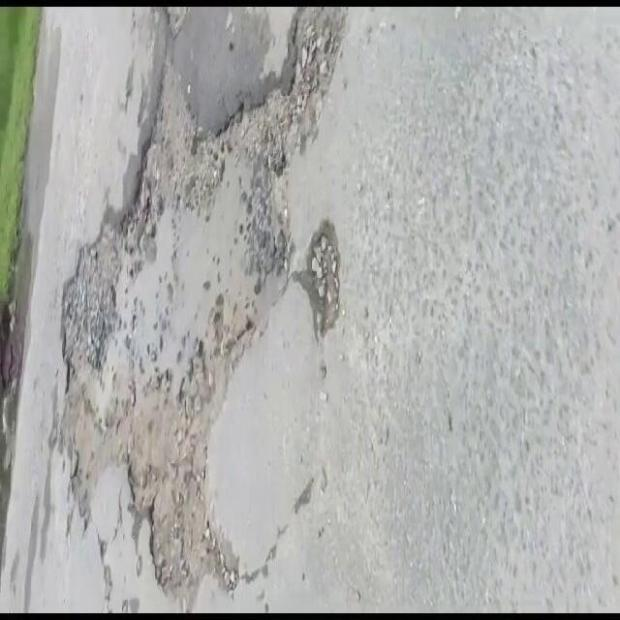lubang: (53, 3, 347, 619), (292, 221, 340, 336)
